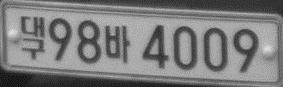0: (202, 26, 228, 72), (172, 25, 197, 70)
4: (141, 24, 169, 69)
8: (76, 19, 101, 63)
9: (232, 28, 259, 73), (48, 16, 72, 61)
대구_V: (20, 15, 46, 60)
바: (104, 24, 131, 64)
